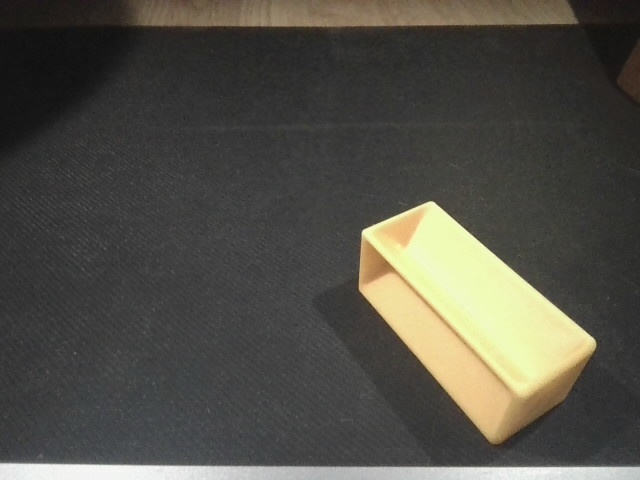YellowSample: (356, 195, 599, 448)
